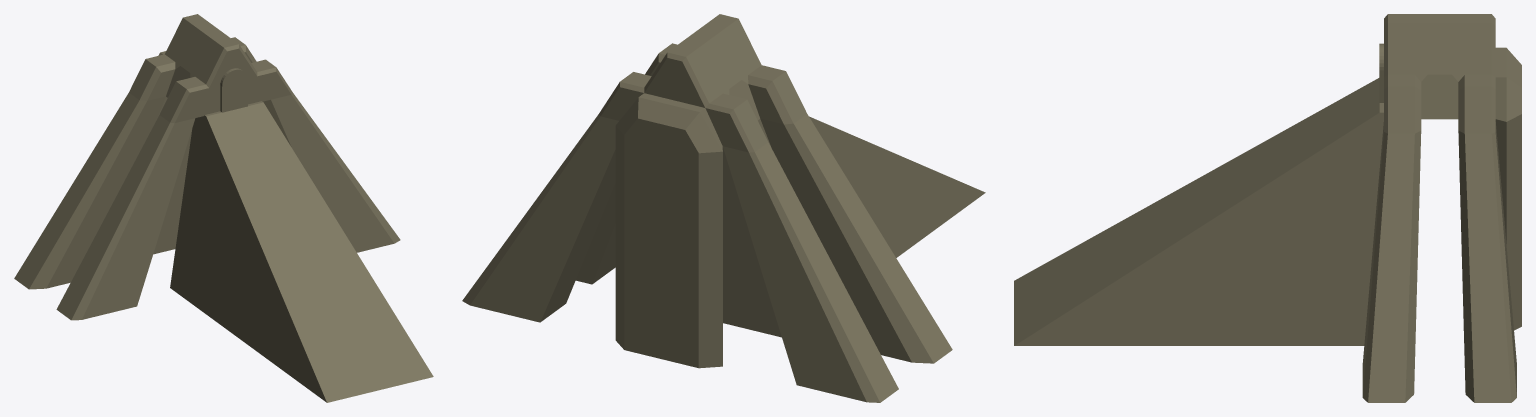
Rendered from Shelter.glb.
3 renders of one model, left to right at view 1: azimuth 30°, elevation 25°; view 2: azimuth 150°, elevation 25°; view 3: azimuth 270°, elevation 25°, orthographic. The views are drawn at different scales.
Visible parts, largest first — view 1: Ramp, Cube, Cutout; view 2: Cube, Ramp; view 3: Ramp, Cube.
Boxes of the visible parts, box(x1,y1,x2,y2) form: Ramp: box(170, 101, 433, 402); Cube: box(14, 14, 400, 320); Cutout: box(220, 68, 247, 112); Cube: box(462, 14, 952, 402); Ramp: box(722, 116, 985, 337); Ramp: box(1014, 78, 1383, 345); Cube: box(1362, 14, 1521, 402).
Size of the model in its own units: 34.28 by 23.35 by 36.44.
